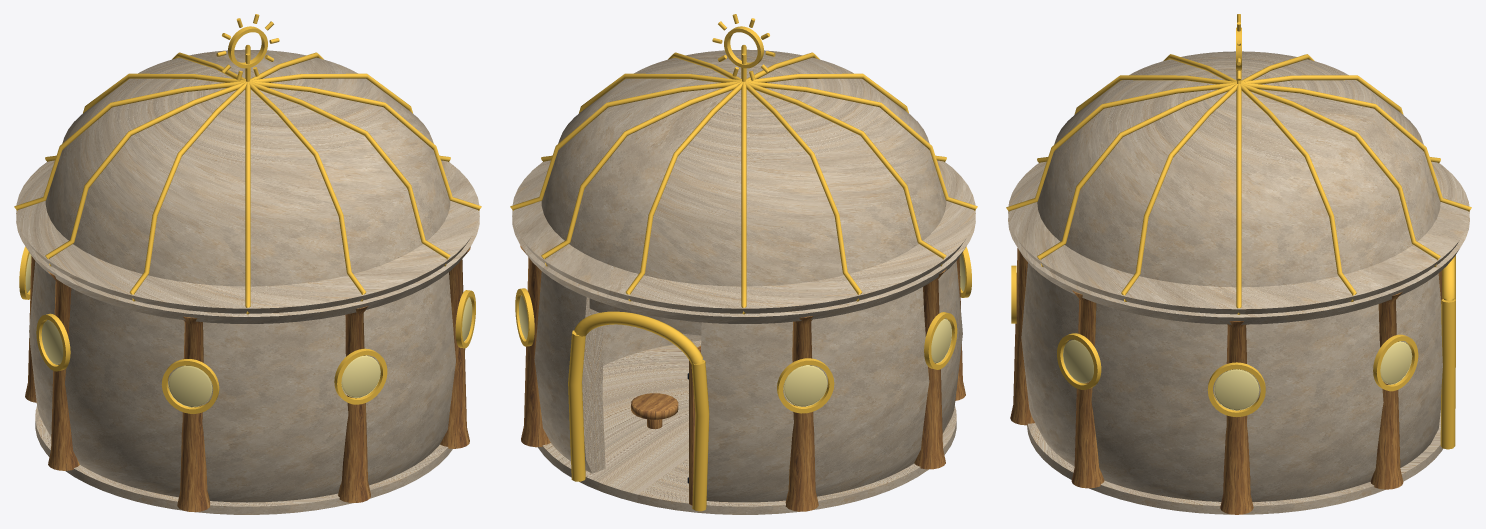
Rendered from 01_Casa_Redonda.obj.
The picture shows the model from 3 angles, left to right: view 1: azimuth 30°, elevation 25°; view 2: azimuth 150°, elevation 25°; view 3: azimuth 270°, elevation 25°; orthographic projection.
Visible parts, largest first — view 1: Cubierta_desmontable, Cuerpo_abombado_con_interior, Pilares_y_oculos, Suelo, Remate_elemental; view 2: Cubierta_desmontable, Cuerpo_abombado_con_interior, Suelo, Pilares_y_oculos, Entrada_arqueada, Remate_elemental, Mobiliario_interior, Dintel_curvo, Puerta_Pivote_Y; view 3: Cubierta_desmontable, Cuerpo_abombado_con_interior, Pilares_y_oculos, Suelo, Entrada_arqueada.
Part boxes in pixels (x1,y1,x2,y2): Cubierta_desmontable: (14,45,481,323); Cuerpo_abombado_con_interior: (29,261,465,502); Pilares_y_oculos: (19,246,475,512); Suelo: (35,406,452,514); Remate_elemental: (216,14,279,81); Cubierta_desmontable: (510,45,977,323); Cuerpo_abombado_con_interior: (534,261,962,502); Suelo: (538,340,956,514); Pilares_y_oculos: (515,245,971,511); Entrada_arqueada: (568,311,709,511); Remate_elemental: (712,14,775,81); Mobiliario_interior: (631,393,678,429); Dintel_curvo: (589,298,701,335); Puerta_Pivote_Y: (687,345,707,505); Cubierta_desmontable: (1006,51,1471,324); Cuerpo_abombado_con_interior: (1021,262,1442,501); Pilares_y_oculos: (1010,248,1418,514); Suelo: (1027,410,1442,514); Entrada_arqueada: (1440,255,1455,449).
Size of the model in its own units: 6.11 by 5.89 by 6.11.
